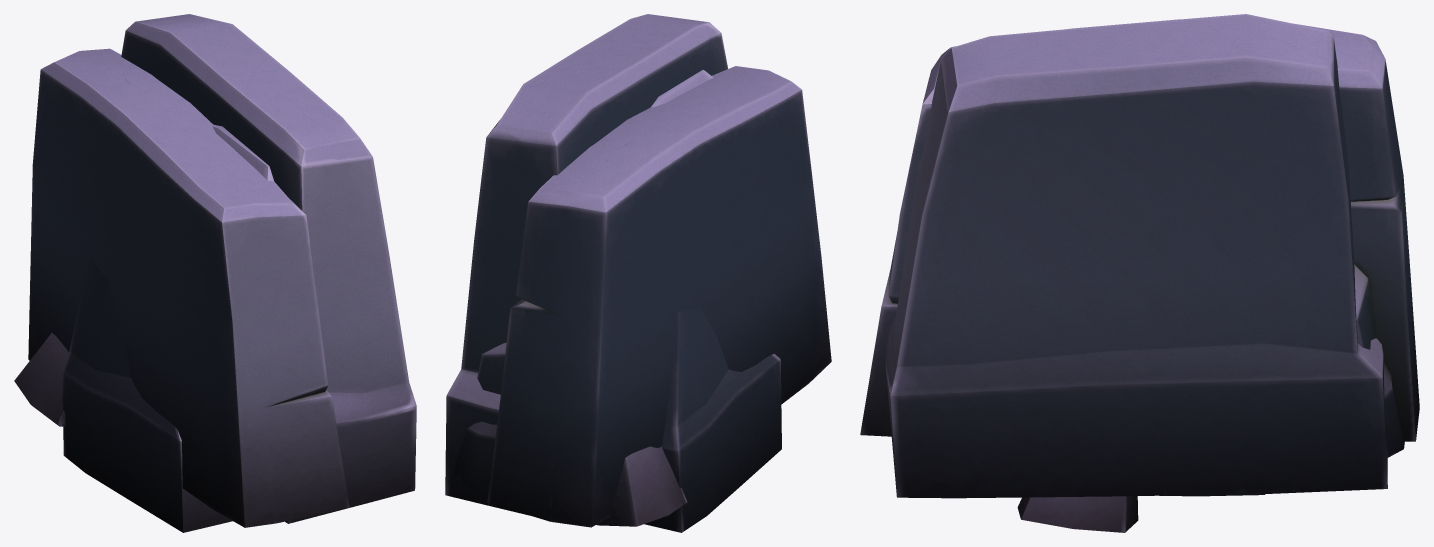
Rendered from stg3_wallrun.gltf.
The picture shows the model from 3 angles, left to right: view 1: azimuth 30°, elevation 25°; view 2: azimuth 150°, elevation 25°; view 3: azimuth 270°, elevation 25°; orthographic projection. The views are drawn at different scales.
Visible parts, largest first — view 1: wall_lf_GEO1:PIV, wall_rt_GEO:PIV, wall_lf_GEO:PIV, wall_rt_GEO1:PIV; view 2: wall_lf_GEO1:PIV, wall_rt_GEO:PIV, wall_lf_GEO:PIV, wall_rt_GEO1:PIV; view 3: wall_rt_GEO:PIV, wall_lf_GEO1:PIV, wall_lf_GEO:PIV.
Part boxes in pixels (x1,y1,x2,y2): wall_lf_GEO1:PIV: (28,48,349,527); wall_rt_GEO:PIV: (14,14,416,523); wall_lf_GEO:PIV: (62,255,232,532); wall_rt_GEO1:PIV: (212,124,273,181); wall_lf_GEO1:PIV: (452,66,831,527); wall_rt_GEO:PIV: (445,14,727,526); wall_lf_GEO:PIV: (644,308,781,532); wall_rt_GEO1:PIV: (650,70,713,107); wall_rt_GEO:PIV: (885,14,1387,498); wall_lf_GEO1:PIV: (860,19,1419,457); wall_lf_GEO:PIV: (1017,494,1265,532).
Size of the model in its own units: 1455 by 2809 by 2963.
Materials: 1 (1 with a texture image).
